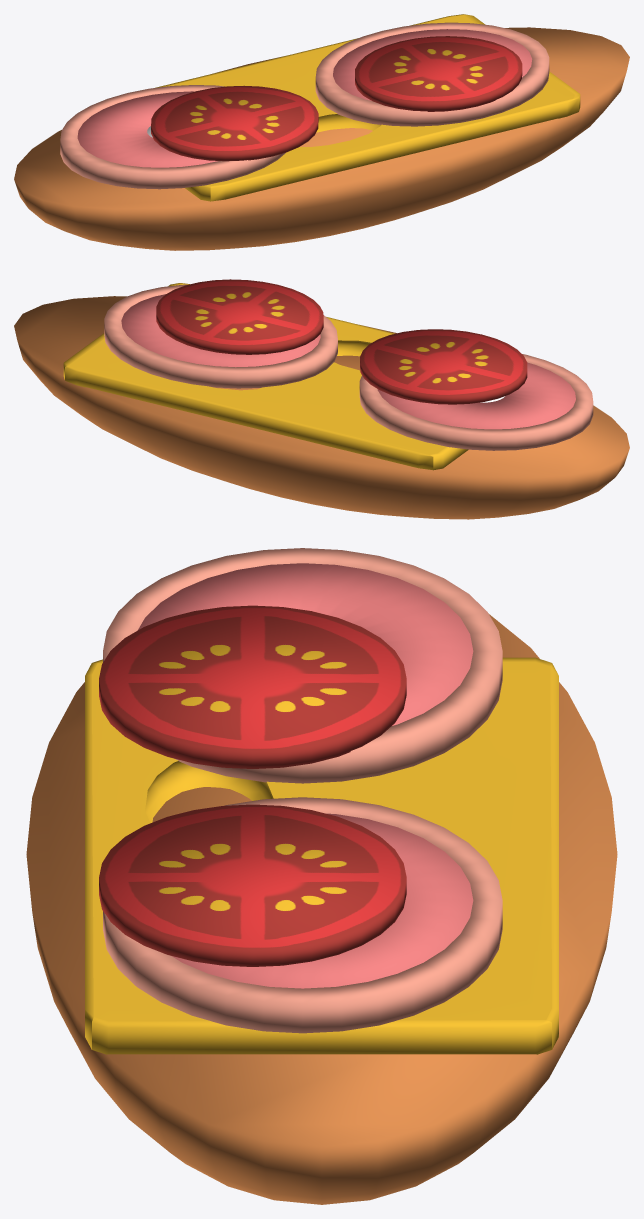
The model's file is kanapka.gltf.
3 renders of one model, top to bottom at view 1: azimuth 30°, elevation 25°; view 2: azimuth 150°, elevation 25°; view 3: azimuth 270°, elevation 25°, orthographic. The views are drawn at different scales.
Visible parts, largest first — view 1: Sphere, Cube.002, Sphere.004, Circle.001, Circle, Sphere.003; view 2: Sphere, Cube.002, Sphere.004, Sphere.003, Circle.001, Circle; view 3: Sphere, Cube.002, Circle.001, Circle, Sphere.003, Sphere.004.
Boxes of the visible parts, bbox=[...] form: Sphere: bbox=[14, 27, 629, 250]; Cube.002: bbox=[155, 14, 580, 201]; Sphere.004: bbox=[60, 85, 285, 189]; Circle.001: bbox=[151, 85, 318, 161]; Circle: bbox=[355, 36, 522, 111]; Sphere.003: bbox=[315, 22, 549, 126]; Sphere: bbox=[14, 296, 629, 519]; Cube.002: bbox=[63, 283, 468, 470]; Sphere.004: bbox=[359, 354, 593, 450]; Sphere.003: bbox=[104, 284, 337, 388]; Circle.001: bbox=[360, 329, 527, 404]; Circle: bbox=[156, 279, 323, 354]; Sphere: bbox=[26, 613, 617, 1204]; Cube.002: bbox=[85, 657, 558, 1054]; Circle.001: bbox=[99, 605, 406, 768]; Circle: bbox=[99, 804, 406, 966]; Sphere.003: bbox=[103, 797, 502, 1033]; Sphere.004: bbox=[103, 548, 502, 783].
Bounding box in the file's own units: 0.2883 × 0.0616 × 0.1233.
Materials: 6 (6 with a texture image).
